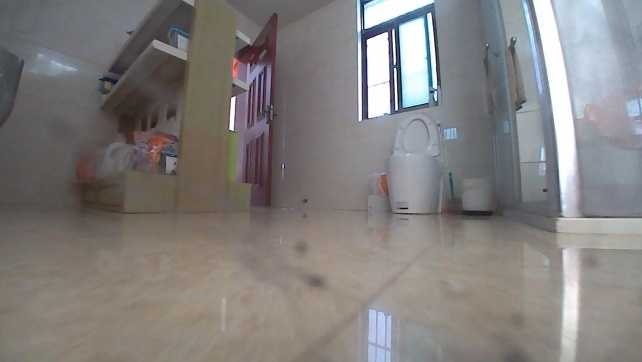door_anno: (236, 10, 281, 210)
toilet: (383, 112, 453, 216)
